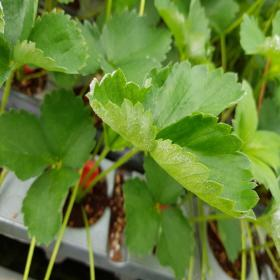Powdery Mildew Leaf: (149, 113, 260, 223), (86, 68, 157, 151), (240, 13, 279, 65)
